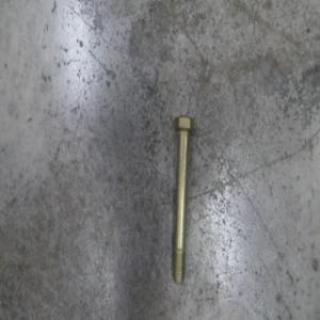Bolttrack_idkeyframe: (171, 113, 193, 287)
